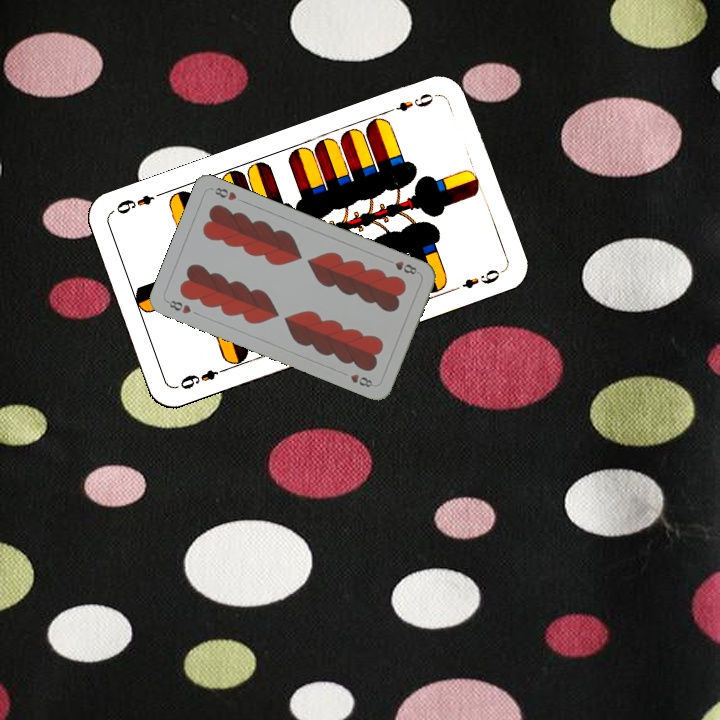E9: (173, 363, 230, 392), (383, 89, 440, 116)
H8: (163, 296, 194, 316), (391, 257, 419, 277)
